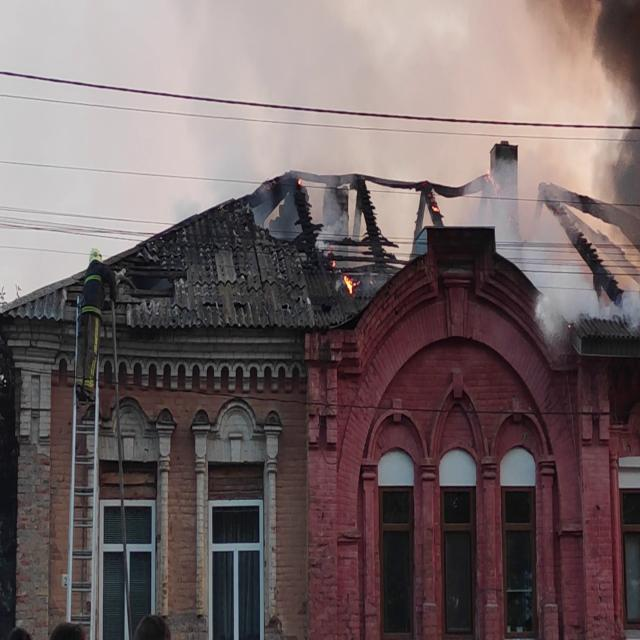smoke: (603, 0, 640, 213)
